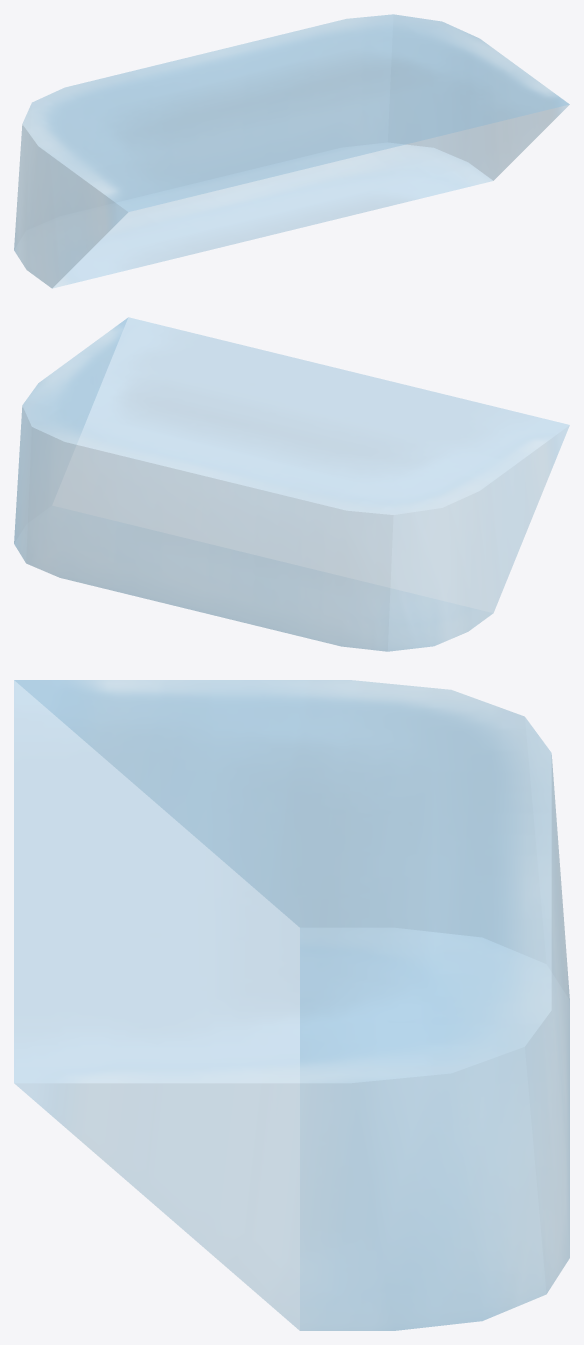
File: Tab_Ice.glb
3 renders of one model, top to bottom at view 1: azimuth 30°, elevation 25°; view 2: azimuth 150°, elevation 25°; view 3: azimuth 270°, elevation 25°, orthographic. The views are drawn at different scales.
Visible parts, largest first — view 1: Tab_Ice; view 2: Tab_Ice; view 3: Tab_Ice.
Part boxes in pixels (x1,y1,x2,y2): Tab_Ice: (14,14,569,288); Tab_Ice: (14,317,569,651); Tab_Ice: (14,680,569,1330).
Bounding box in the file's own units: 0.3063 × 0.0878 × 0.1785.
1 material, 1 textured.
